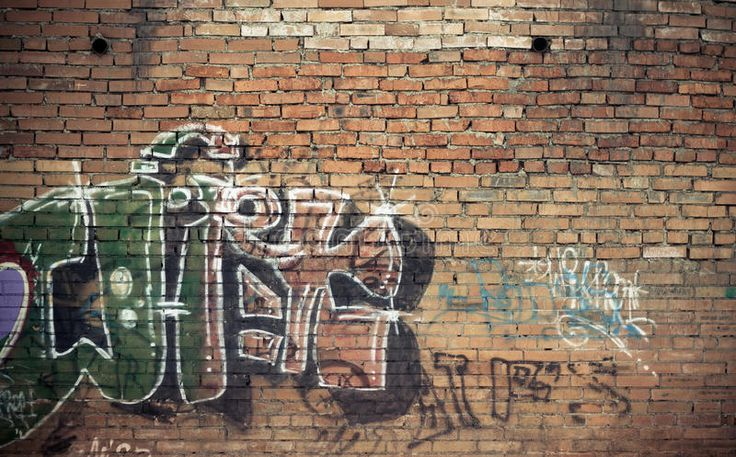Wall: (443, 53, 713, 449)
